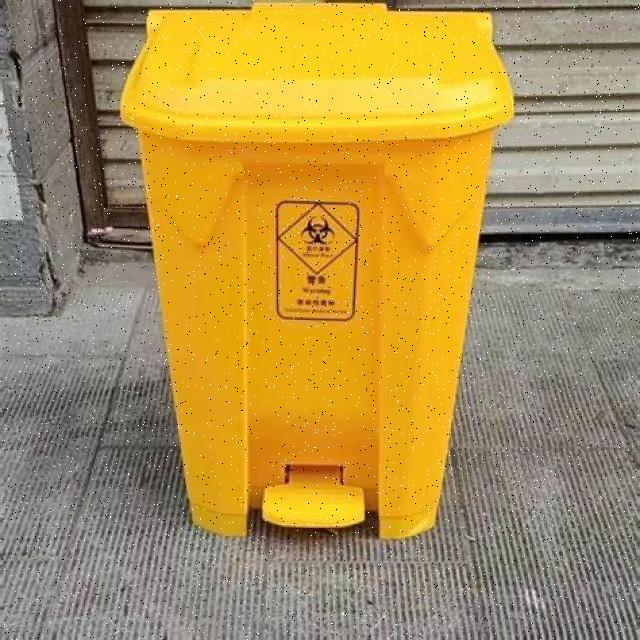garbage container: (113, 6, 542, 566)
